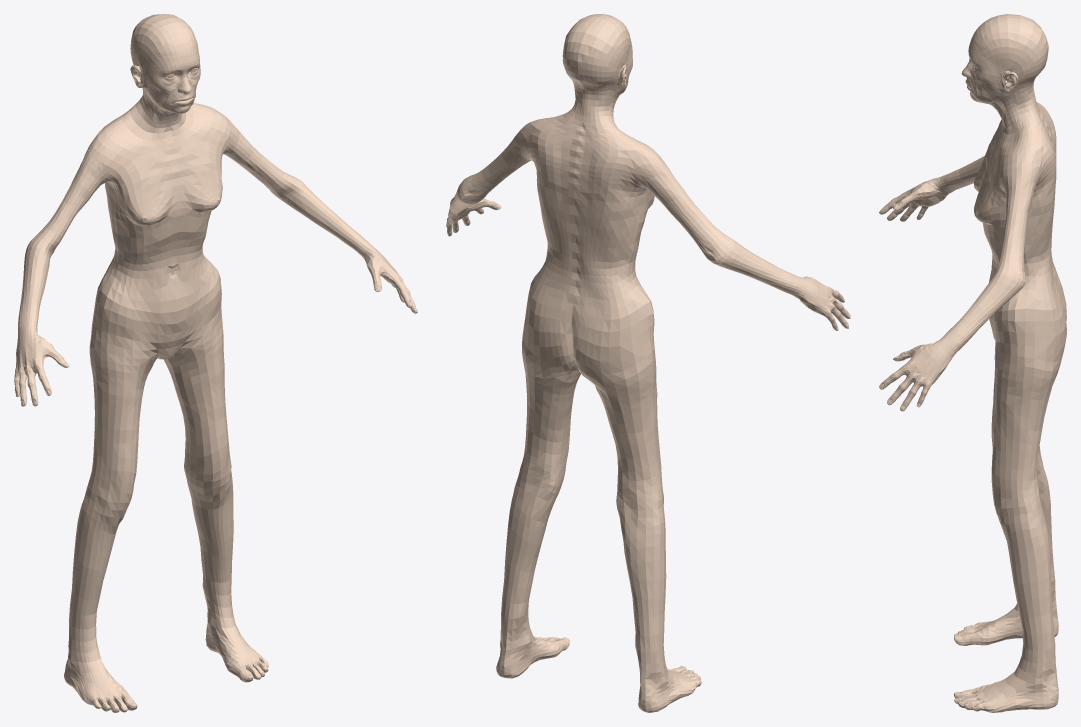
File: female-older-lean-low.glb
3 renders of one model, left to right at view 1: azimuth 30°, elevation 25°; view 2: azimuth 150°, elevation 25°; view 3: azimuth 270°, elevation 25°, orthographic.
Parts seen in each view (by area): view 1: world; view 2: world; view 3: world.
Boxes of the visible parts, bbox=[...] form: world: bbox=[14, 14, 417, 712]; world: bbox=[446, 14, 850, 712]; world: bbox=[879, 14, 1066, 712].
Bounding box in the file's own units: 1.13 × 1.8 × 0.4683.
